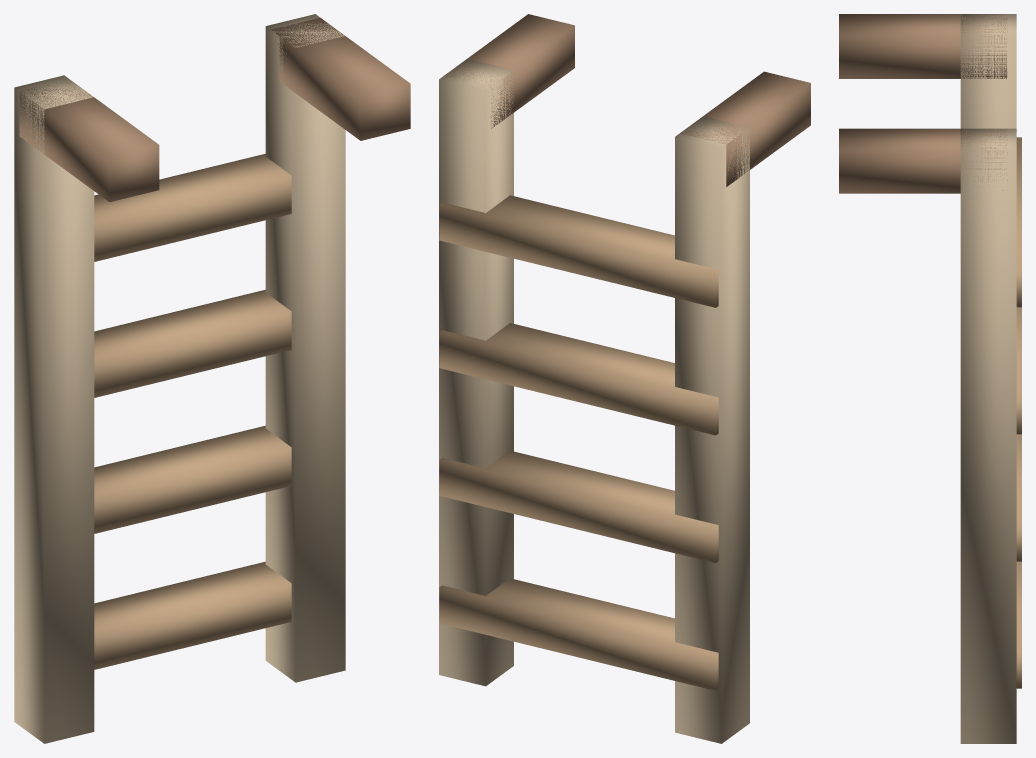
3 renders of one model, left to right at view 1: azimuth 30°, elevation 25°; view 2: azimuth 150°, elevation 25°; view 3: azimuth 270°, elevation 25°, orthographic. The views are drawn at different scales.
Parts seen in each view (by area): view 1: world; view 2: world; view 3: world.
Boxes of the visible parts, x1,y1,x2,y2 form: world: (14, 14, 410, 743); world: (439, 14, 810, 743); world: (839, 14, 1021, 743).
Size of the model in its own units: 0.695 by 1.4 by 0.3915.
